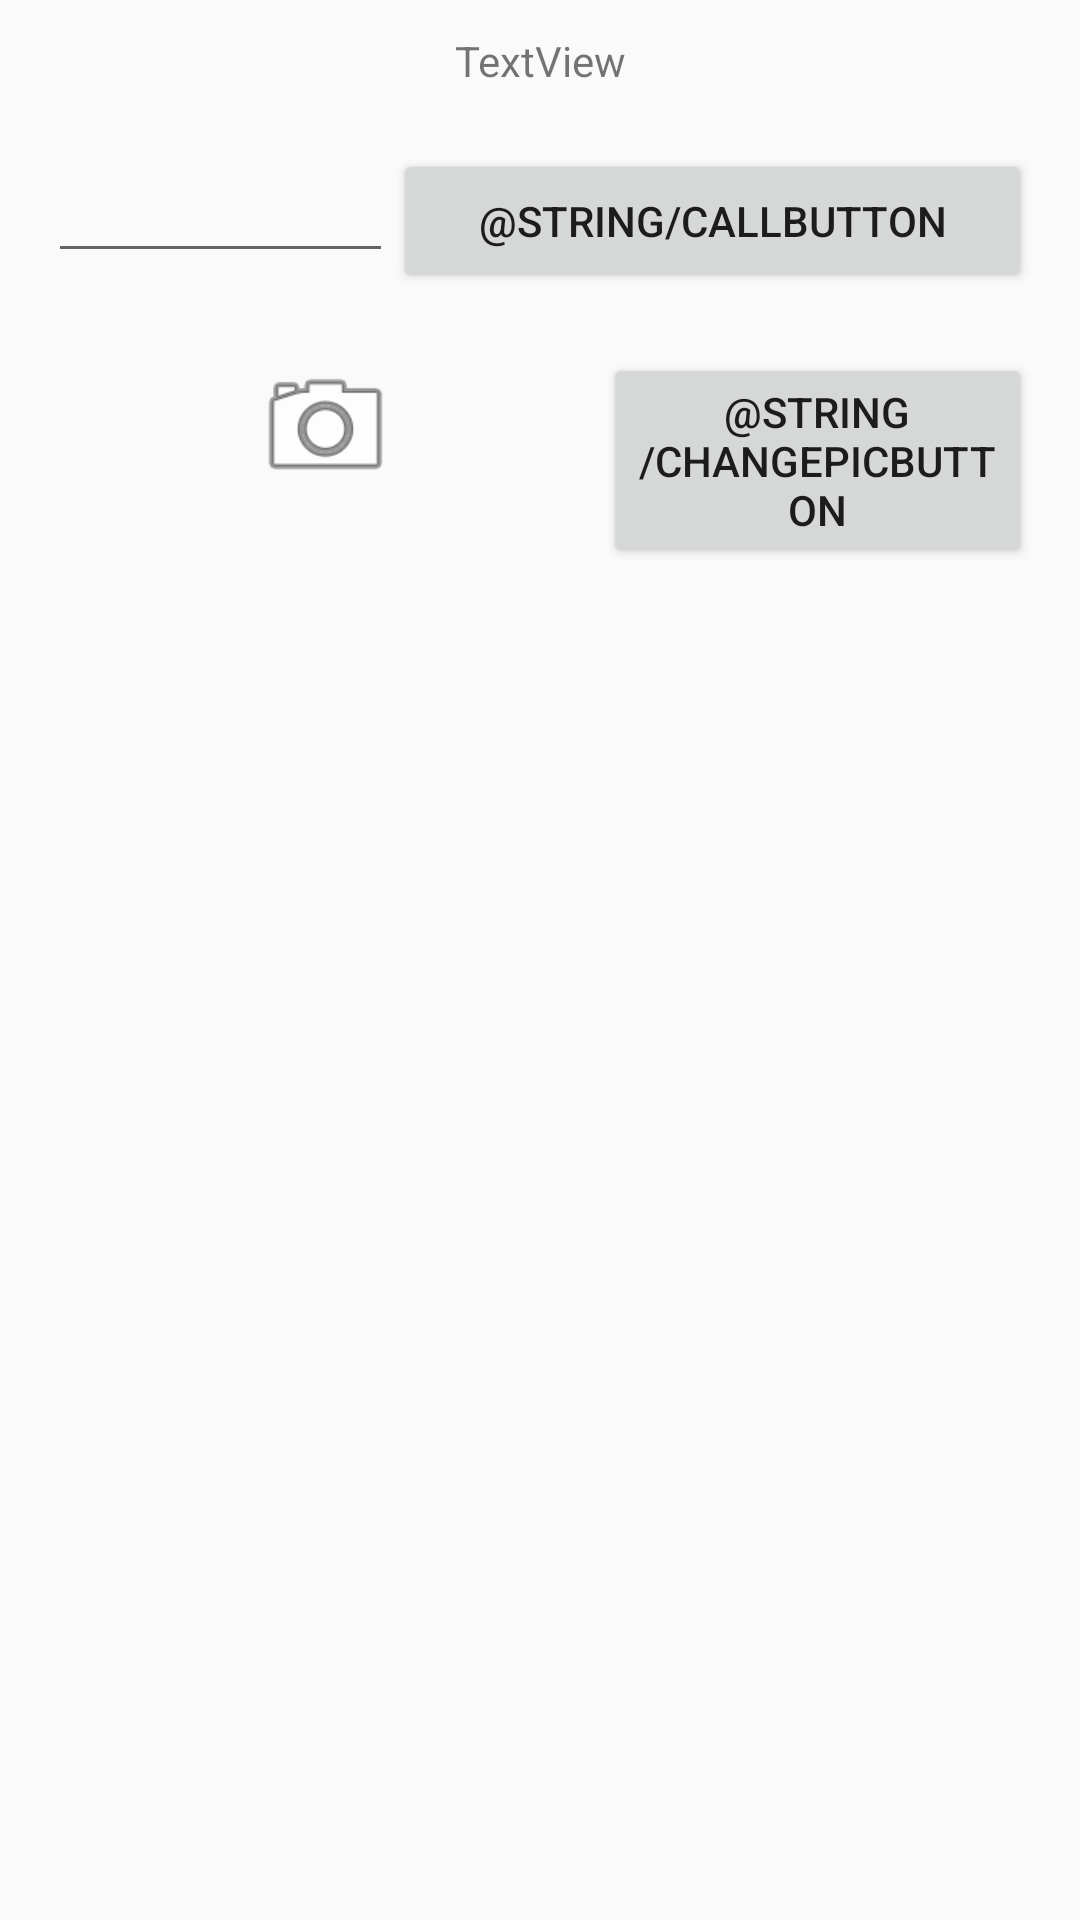

Locate icon controls on the screen. Image size 1080x1920, boxes as (x1, y1, x2, y2).
camera: (269, 379, 382, 470)
